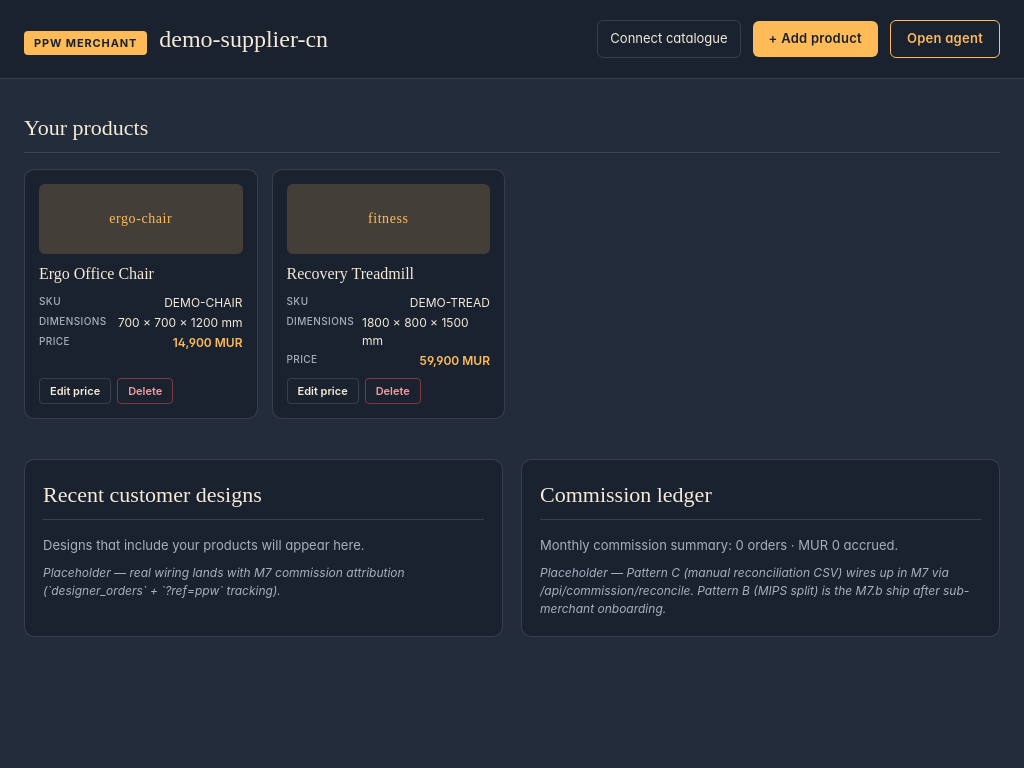
MerchantDashboardPage — product management (session-gated, WD Phase 3) › rejects an empty price on Save (no PATCH, shows error) — no free products
This screenshot has width=1024, height=768.
Click the button with test id "merchant-product-edit" below "14,900 MUR".
click(75, 391)  # box [39, 378, 111, 404]
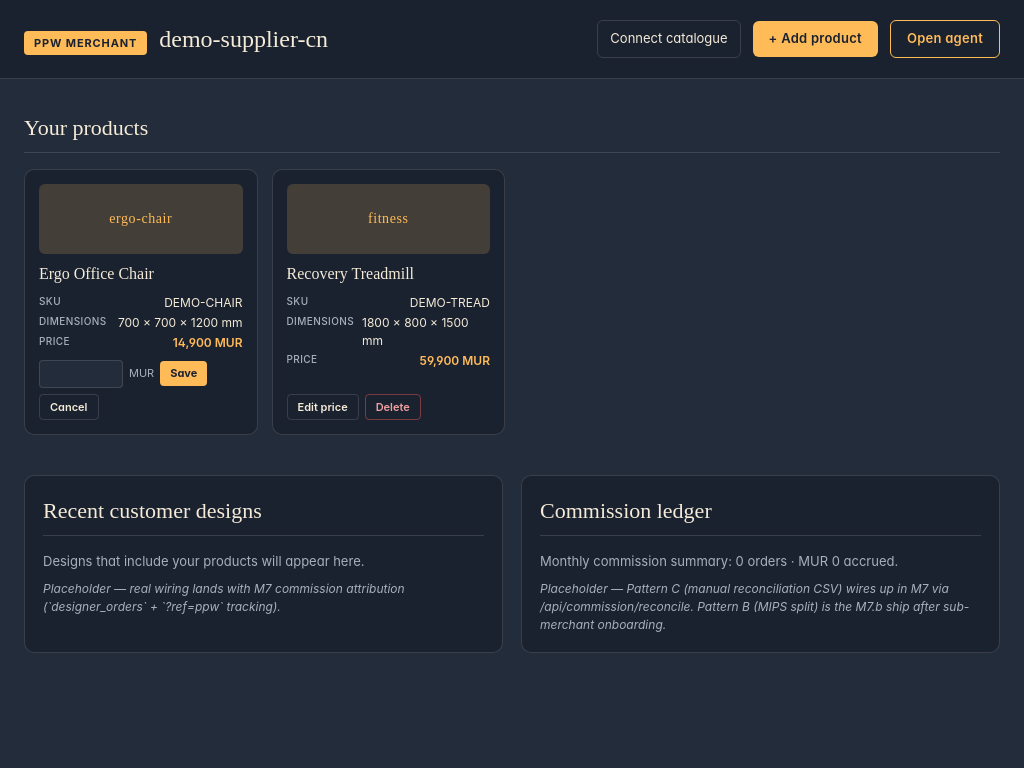
Click the button with test id "merchant-product-save".
click(184, 374)  # box [160, 361, 207, 386]
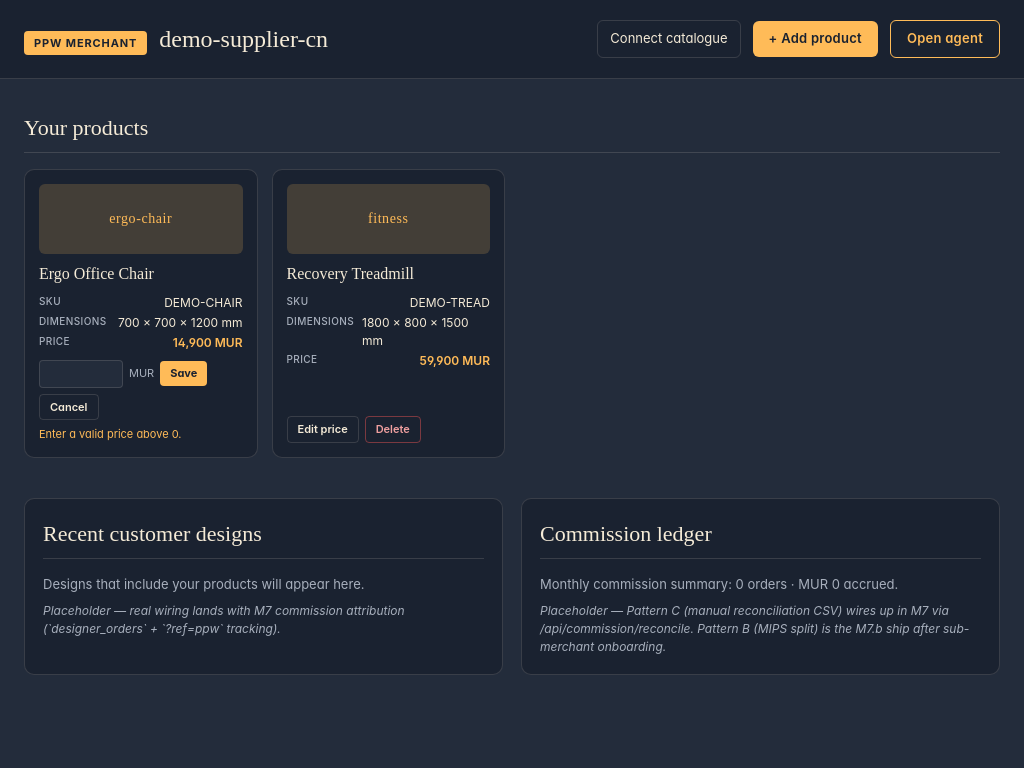
expect the text "Enter a valid price above 0." is shown: met, box [39, 427, 182, 441]
